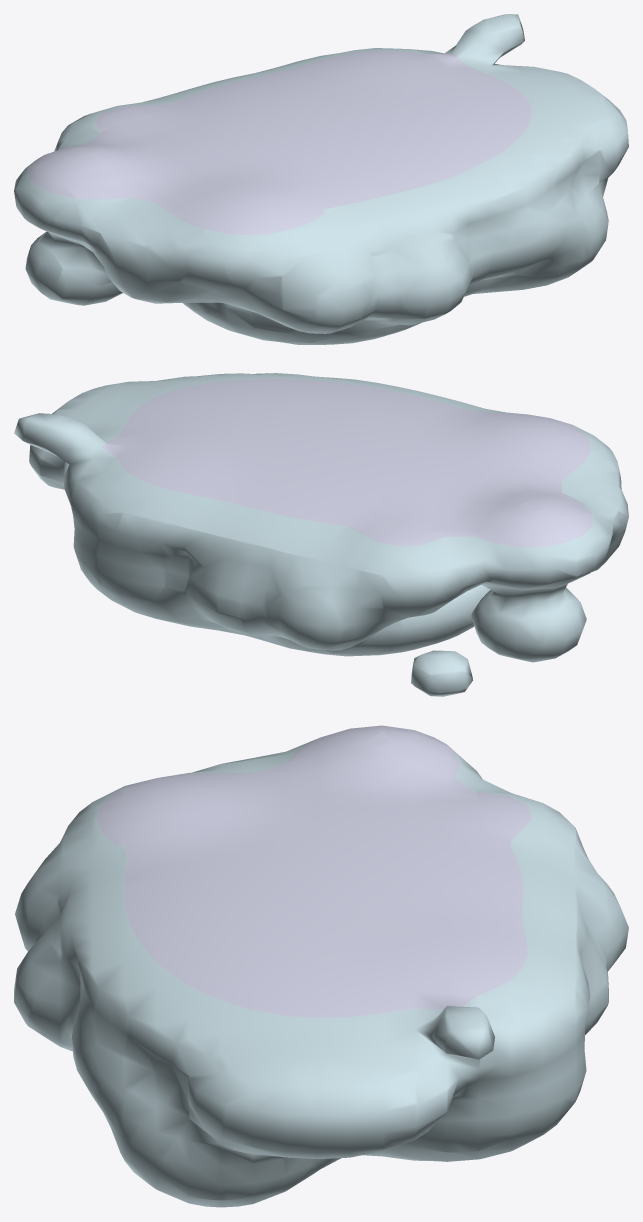
File: PlataformaNube.glb
3 renders of one model, top to bottom at view 1: azimuth 30°, elevation 25°; view 2: azimuth 150°, elevation 25°; view 3: azimuth 270°, elevation 25°, orthographic. The views are drawn at different scales.
Parts seen in each view (by area): view 1: Mball.017; view 2: Mball.017; view 3: Mball.017.
Part boxes in pixels (x1,y1,x2,y2): Mball.017: (14,14,628,344); Mball.017: (14,373,628,696); Mball.017: (14,725,628,1207).
Size of the model in its own units: 5.72 by 1.85 by 4.18.
